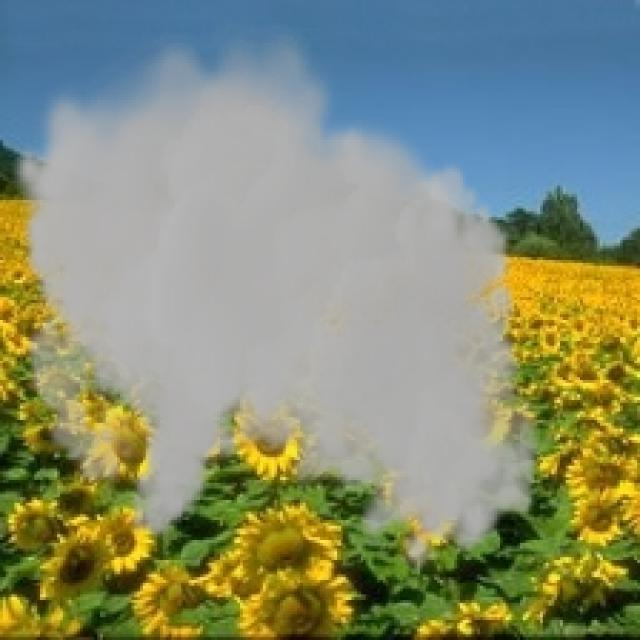smoke: (8, 20, 543, 574)
